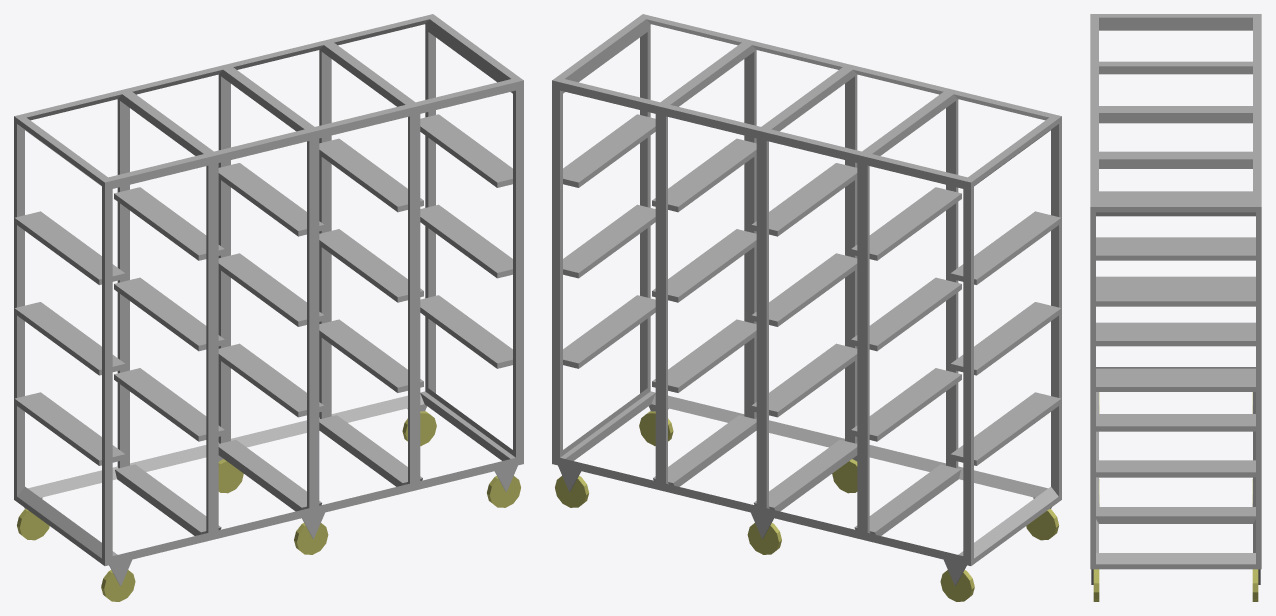
Rendered from Rack1.fbx.
3 views of the same model, side by side, from view 1: azimuth 30°, elevation 25°; view 2: azimuth 150°, elevation 25°; view 3: azimuth 270°, elevation 25° (orthographic). The views are drawn at different scales.
Parts seen in each view (by area): view 1: pCylinder56; view 2: pCylinder56; view 3: pCylinder56.
Boxes of the visible parts, x1,y1,x2,y2 form: pCylinder56: [14, 14, 523, 601]; pCylinder56: [552, 14, 1061, 601]; pCylinder56: [1090, 14, 1261, 601].
Bounding box in the file's own units: 162 × 60 × 155.
